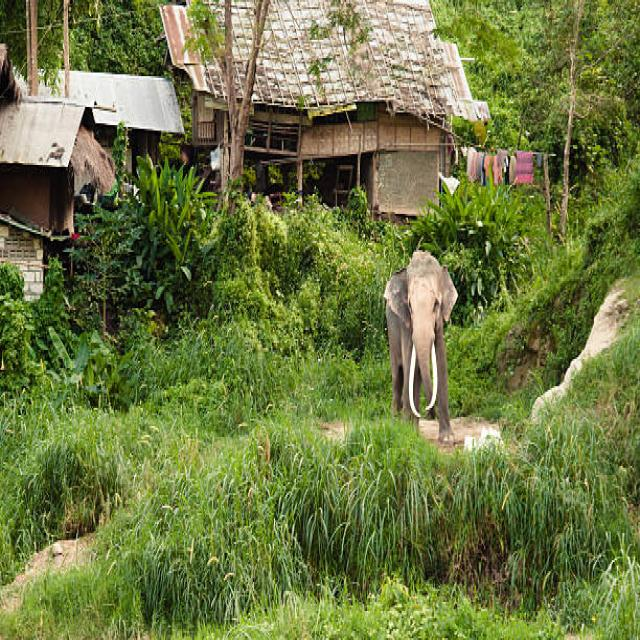Elephant: (379, 238, 460, 433)
